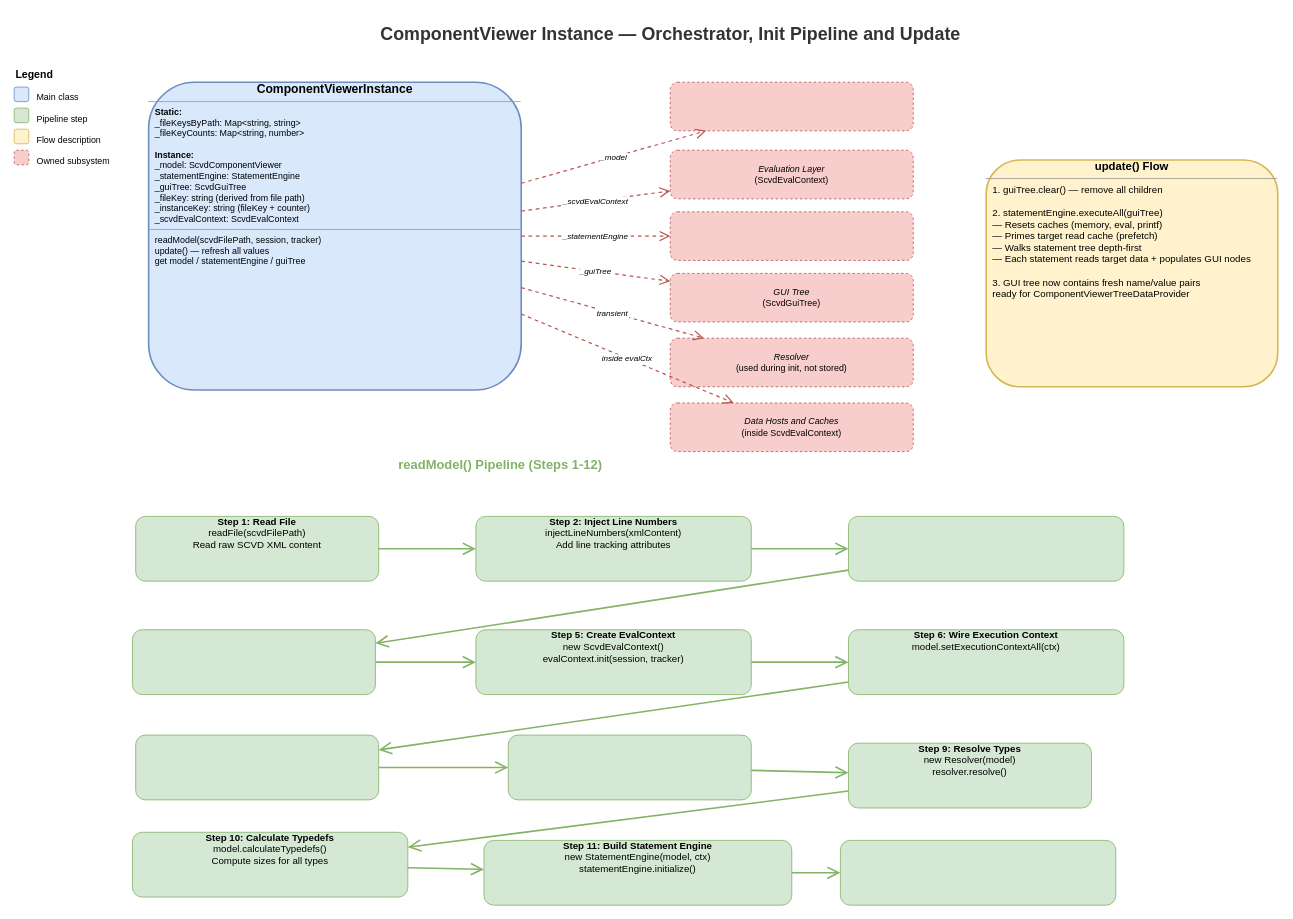
This 1293x919 diagram has some shape labels left out. Here are the shapes that lost their labels. From the top down, the centre of each, then its label:
At pixel 791 106: "SCVD Model (ScvdComponentViewer)".
At pixel 791 235: "Statement Engine (StatementEngine)".
At pixel 986 548: "Step 3: Parse XML parseStringPromise(xml) via xml2js Convert to JSON structure".
At pixel 253 662: "Step 4: Build Model new ScvdComponentViewer() model.readXml(json)".
At pixel 257 767: "Step 7: Configure model.configureAll() Recursive configure + clear caches".
At pixel 629 767: "Step 8: Validate model.validateAll() Recursive validation".
At pixel 978 872: "Step 12: Create GUI Tree new ScvdGuiTree(instanceKey) Root node for tree view".
